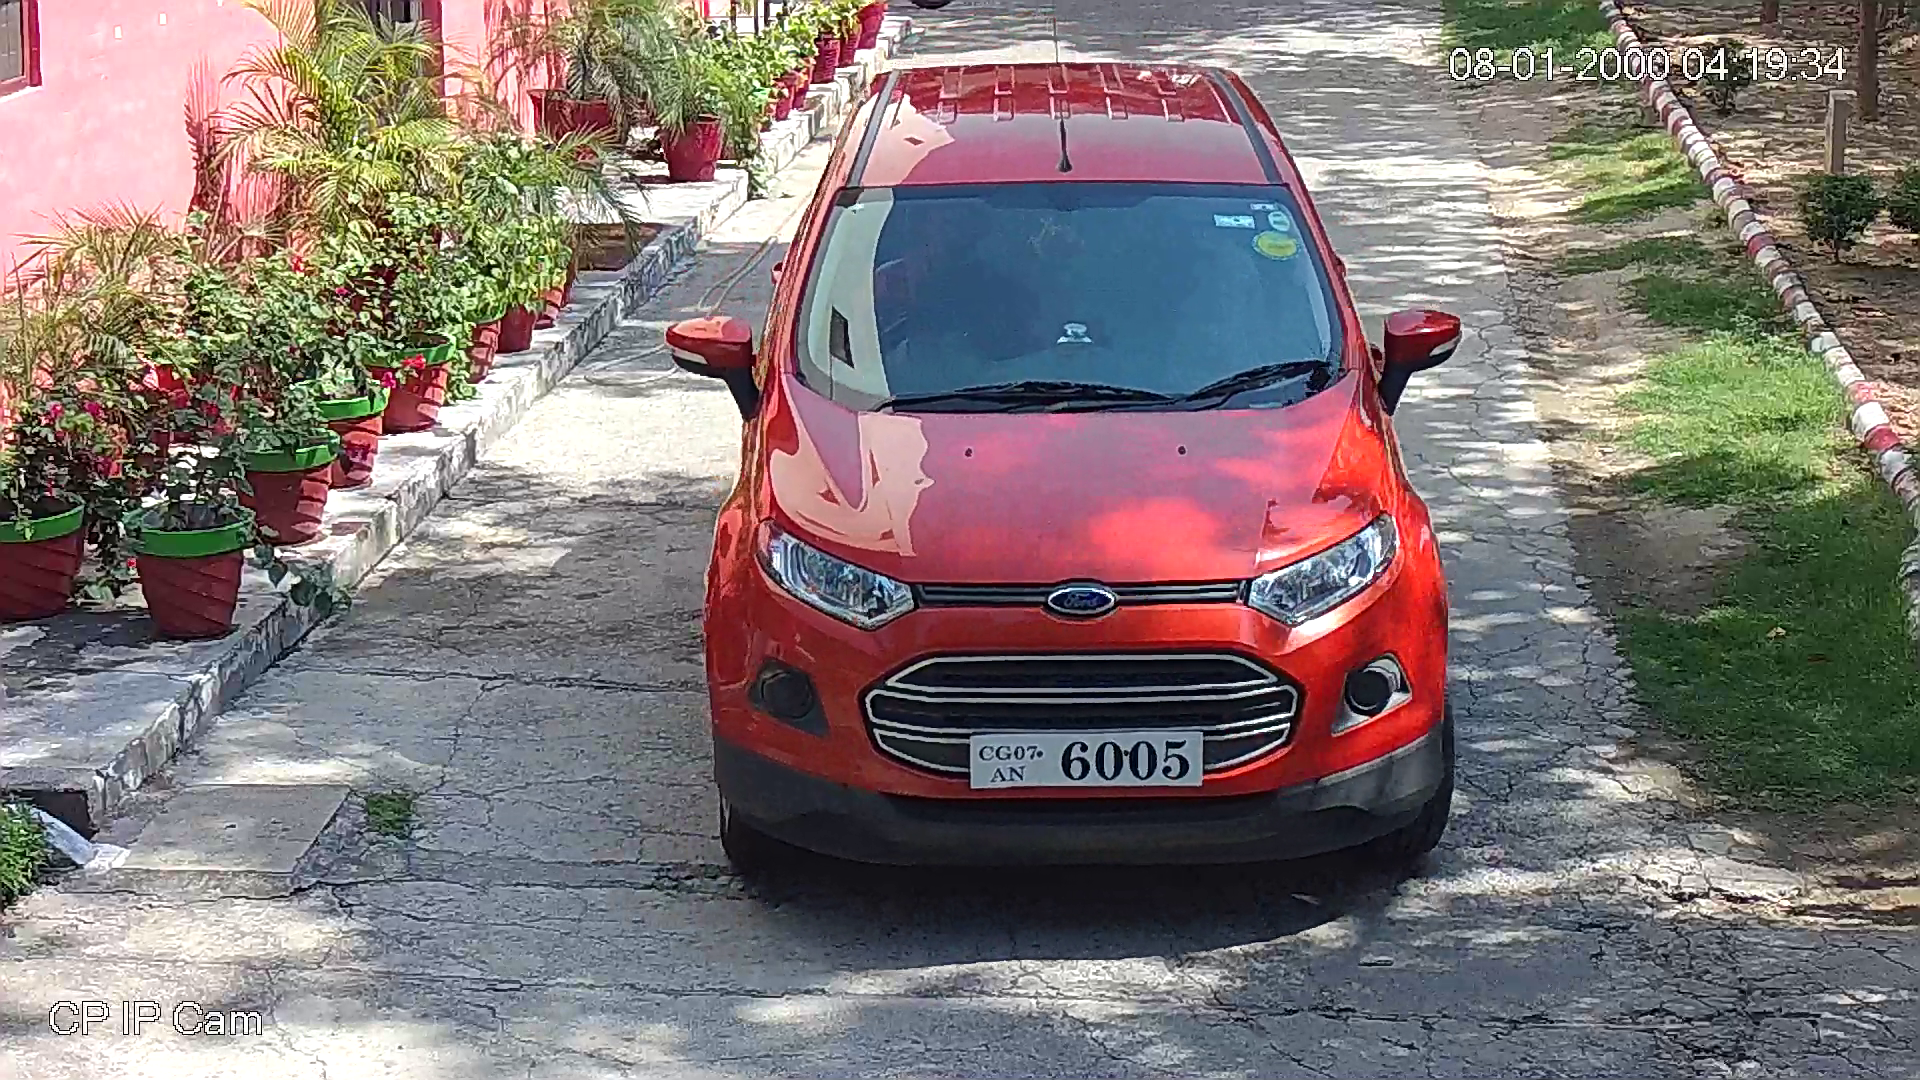plate: (963, 723, 1211, 796)
